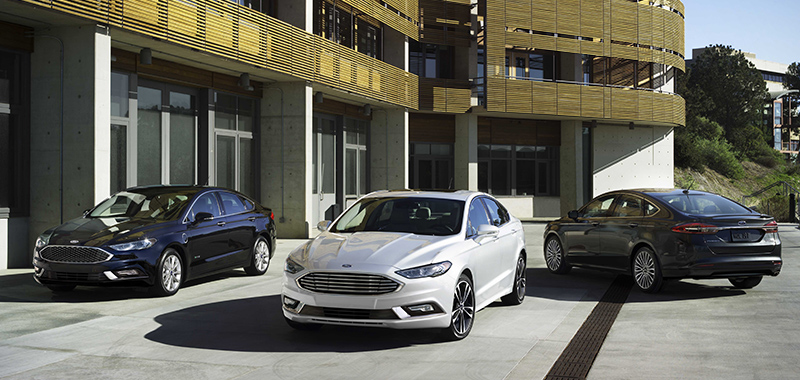car: (281, 187, 527, 339), (32, 183, 276, 297), (542, 186, 781, 293)
